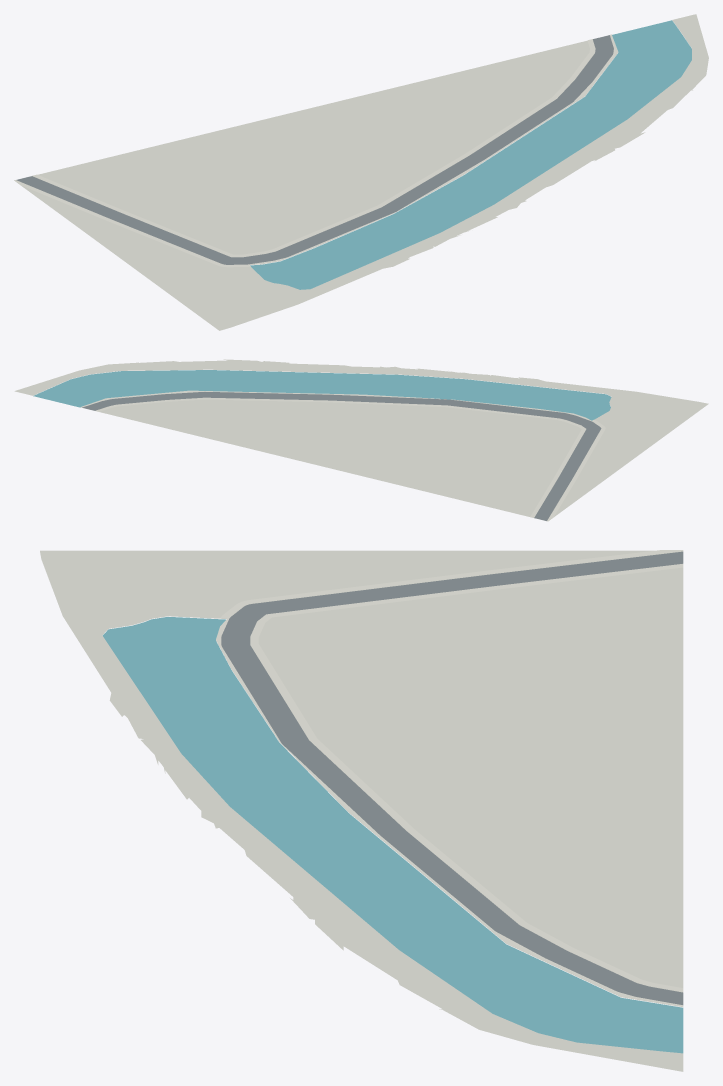
3 views of the same model, one above another, from view 1: azimuth 30°, elevation 25°; view 2: azimuth 150°, elevation 25°; view 3: azimuth 270°, elevation 25° (orthographic). The views are drawn at different scales.
Parts seen in each view (by area): view 1: city; view 2: city; view 3: city.
Part boxes in pixels (left/top/right/bottom): city: left=14, top=14, right=708, bottom=330; city: left=14, top=359, right=708, bottom=521; city: left=40, top=550, right=683, bottom=1071.
Size of the model in its own units: 430 by 0.4 by 224.
